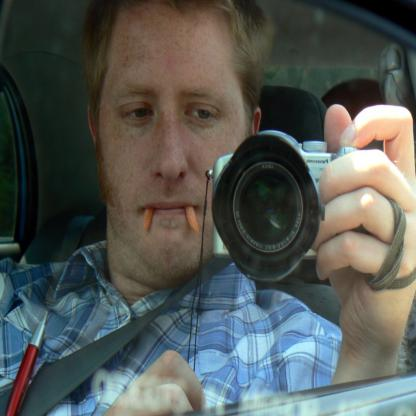Camera: (209, 132, 384, 287)
